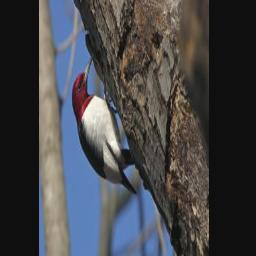Woodpecker: (68, 50, 141, 196)
